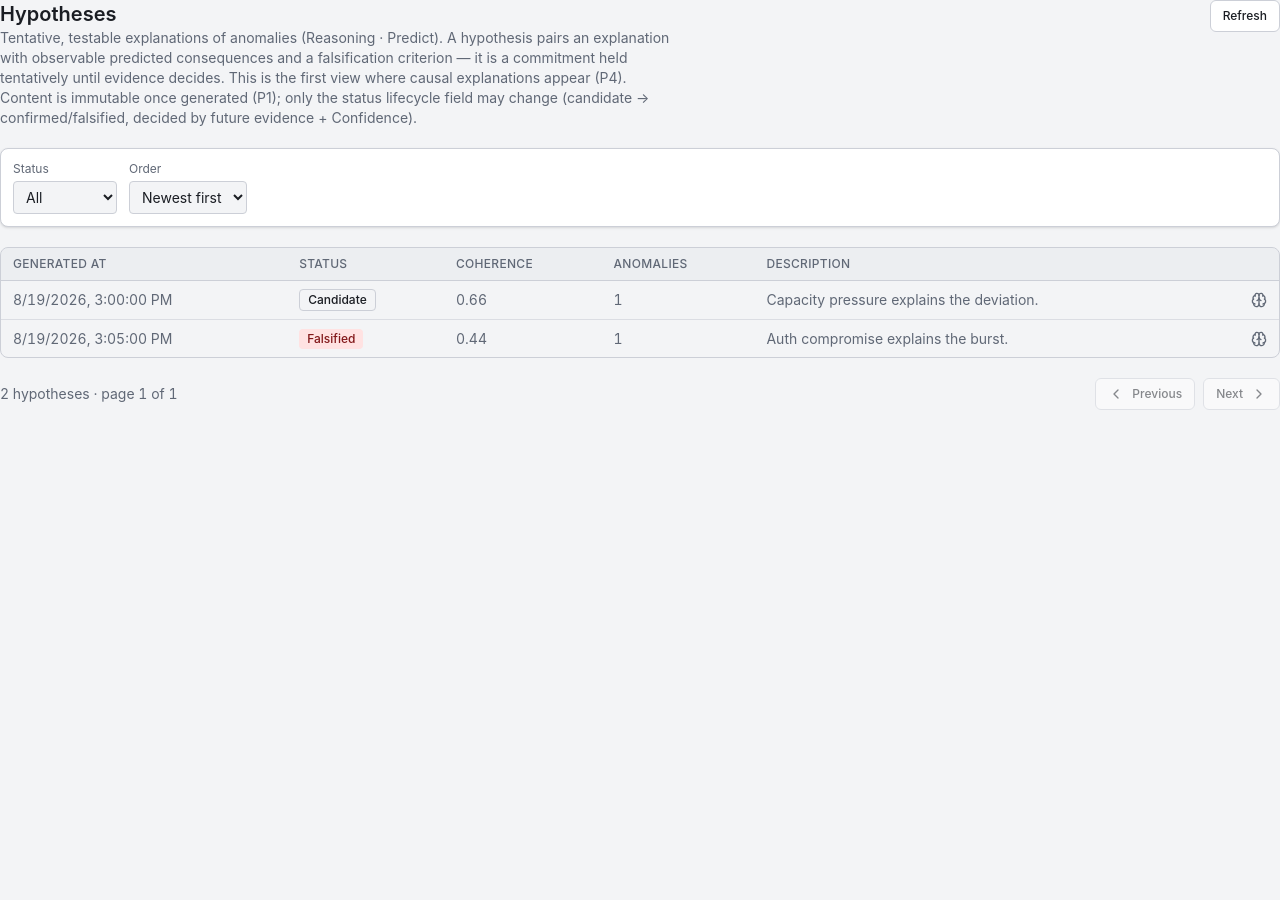
HypothesesPage › opens the detail drawer with consequences, falsification criterion and source anomaly
The width and height of the screenshot is (1280, 900).
What coordinates should you click on to do the following:
click the text "Capacity pressure explains the deviation."
I would click on:
 (986, 300)
Its box is [754, 280, 1217, 320].
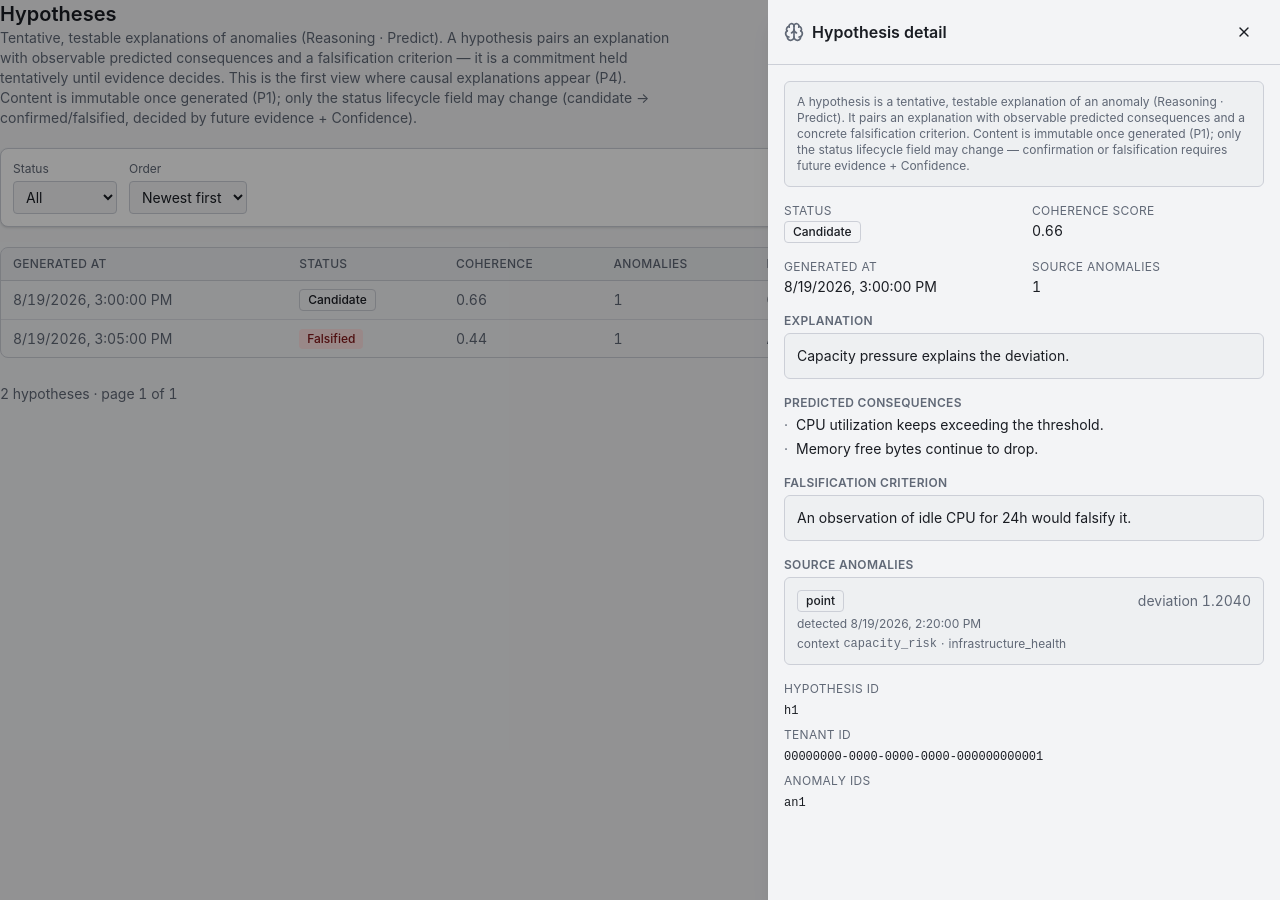
Expected: the heading "Predicted consequences" is shown, [784, 395, 962, 410]
Expected: the list item "CPU utilization keeps exceeding the threshold." is shown, [796, 416, 1104, 433]
Expected: the heading "Falsification criterion" is shown, [784, 475, 947, 490]
